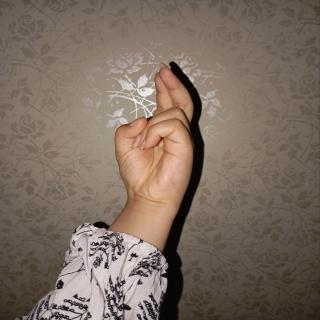ZAY: (105, 59, 208, 214)
